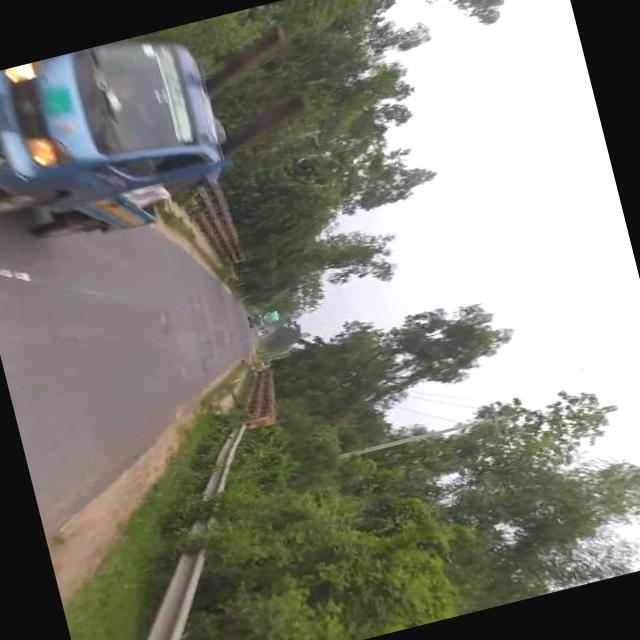bus: (241, 308, 282, 332)
truck: (0, 20, 251, 267)
